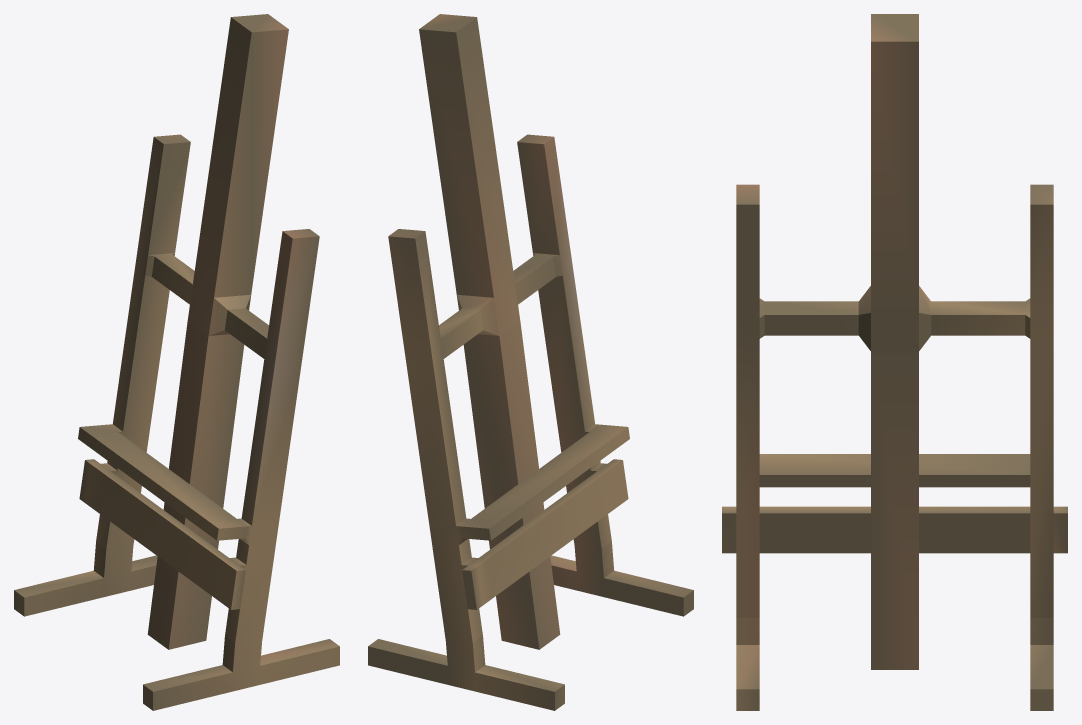
File: Easel Large Leaning.glb
The picture shows the model from 3 angles, left to right: view 1: azimuth 30°, elevation 25°; view 2: azimuth 150°, elevation 25°; view 3: azimuth 270°, elevation 25°; orthographic projection. The views are drawn at different scales.
Visible parts, largest first — view 1: Cube; view 2: Cube; view 3: Cube.
Part boxes in pixels (x1,y1,x2,y2): Cube: (14,14,339,710); Cube: (368,14,693,710); Cube: (722,14,1067,710).
Size of the model in its own units: 2.41 by 7.06 by 3.25.
